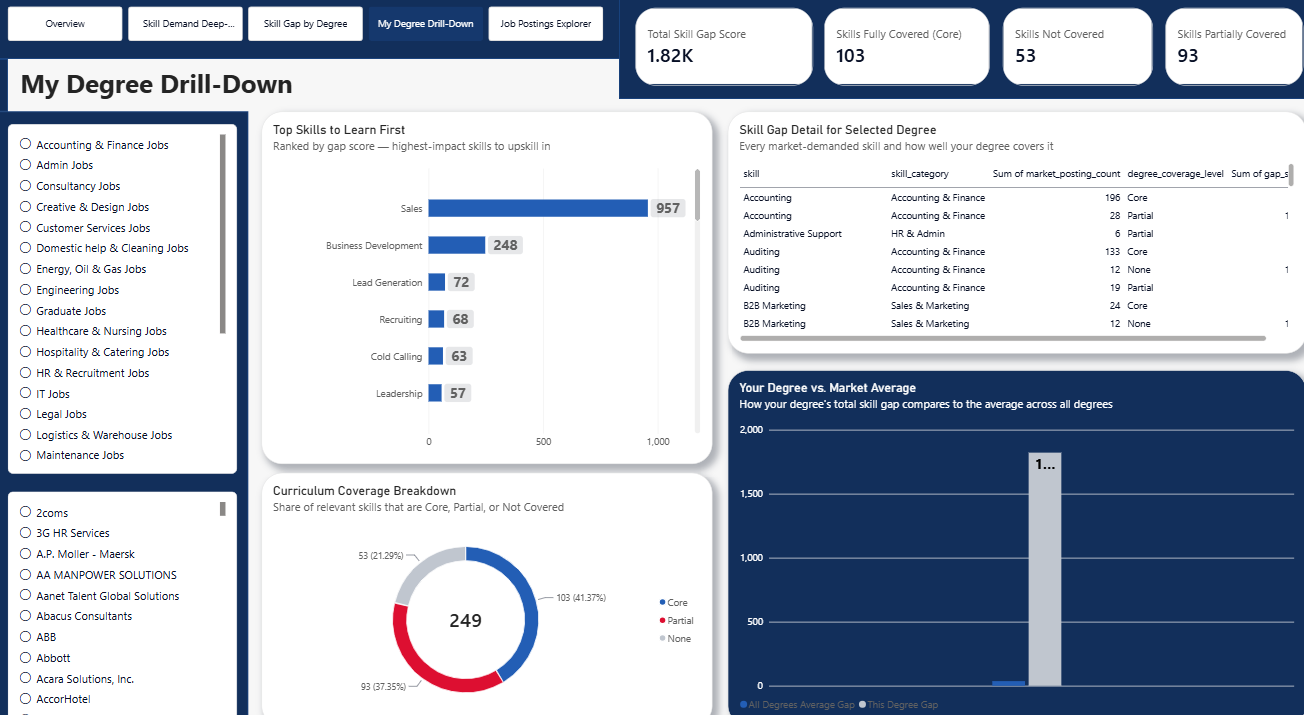

Layout of this report page (visuals, bound fields, positions):
{"tool":"powerbi","page":{"name":"My Degree Drill-Down","canvas":[1920,1080],"ordinal":3},"visuals":[{"type":"shape","box":[905,0,1014,152],"z":0},{"type":"shape","box":[905,0,1014,152],"z":1000},{"type":"cardVisual","fields":{"Data":["_Measure.Total Skill Gap Score"]},"box":[927.5,20,257.5,112.5],"z":2000},{"type":"cardVisual","fields":{"Data":["_Measure.Skills Fully Covered (Core)"]},"box":[1202.5,20,240,112.5],"z":3000},{"type":"cardVisual","fields":{"Data":["_Measure.Skills Not Covered"]},"box":[1460,20,217.5,112.5],"z":4000},{"type":"cardVisual","fields":{"Data":["_Measure.Skills Partially Covered"]},"box":[1695,20,200,112.5],"z":5000},{"type":"tableEx","title":"Skill Gap Detail for Selected Degree","fields":{"Values":["skill_gap_by_degree.skill","skill_gap_by_degree.skill_category","Sum(skill_gap_by_degree.market_posting_count)","skill_gap_by_degree.degree_coverage_level","Sum(skill_gap_by_degree.gap_score)"]},"box":[1062.5,170,837.5,350],"z":6000},{"type":"barChart","title":"Top Skills to Learn First","fields":{"Category":["skill_gap_by_degree.skill"],"Y":["Sum(skill_gap_by_degree.gap_score)"]},"box":[387.5,170,652.5,510],"z":7000},{"type":"donutChart","title":"Curriculum Coverage Breakdown","fields":{"Category":["skill_gap_by_degree.degree_coverage_level"],"Y":["CountNonNull(skill_gap_by_degree.skill)"]},"box":[387.5,692.5,652.5,367.5],"z":8000},{"type":"clusteredColumnChart","title":"Your Degree vs. Market Average","fields":{"Y":["_Measure.All Degrees Average Gap","_Measure.This Degree Gap"]},"box":[1062.5,545,837.5,515],"z":9000},{"type":"shape","box":[0,0,906,94],"z":10000},{"type":"pageNavigator","box":[20,18,866,50],"z":11000},{"type":"shape","box":[0,94,20,76],"z":12000},{"type":"shape","box":[0,170,368,910],"z":13000},{"type":"listSlicer","fields":{"Values":["job_postings_detail.category"]},"box":[20,188,332,506],"z":14000},{"type":"listSlicer","fields":{"Values":["job_postings_detail.company"]},"box":[20,720,332,340],"z":15000}]}

Visuals, with their boxes on the page's 1920x1080 design canvas (x1, y1, x2, y2). These are canvas units, not pixel positions in the 1304x715 screenshot, which may show the page scaled, cropped or inside an application window:
shape: pyautogui.locateOnScreen(905, 0, 1919, 152)
shape: pyautogui.locateOnScreen(905, 0, 1919, 152)
cardVisual - _Measure.Total Skill Gap Score: pyautogui.locateOnScreen(928, 20, 1185, 132)
cardVisual - _Measure.Skills Fully Covered (Core): pyautogui.locateOnScreen(1202, 20, 1442, 132)
cardVisual - _Measure.Skills Not Covered: pyautogui.locateOnScreen(1460, 20, 1678, 132)
cardVisual - _Measure.Skills Partially Covered: pyautogui.locateOnScreen(1695, 20, 1895, 132)
"Skill Gap Detail for Selected Degree" tableEx: pyautogui.locateOnScreen(1062, 170, 1900, 520)
"Top Skills to Learn First" barChart: pyautogui.locateOnScreen(388, 170, 1040, 680)
"Curriculum Coverage Breakdown" donutChart: pyautogui.locateOnScreen(388, 692, 1040, 1060)
"Your Degree vs. Market Average" clusteredColumnChart: pyautogui.locateOnScreen(1062, 545, 1900, 1060)
shape: pyautogui.locateOnScreen(0, 0, 906, 94)
pageNavigator: pyautogui.locateOnScreen(20, 18, 886, 68)
shape: pyautogui.locateOnScreen(0, 94, 20, 170)
shape: pyautogui.locateOnScreen(0, 170, 368, 1080)
listSlicer - job_postings_detail.category: pyautogui.locateOnScreen(20, 188, 352, 694)
listSlicer - job_postings_detail.company: pyautogui.locateOnScreen(20, 720, 352, 1060)
